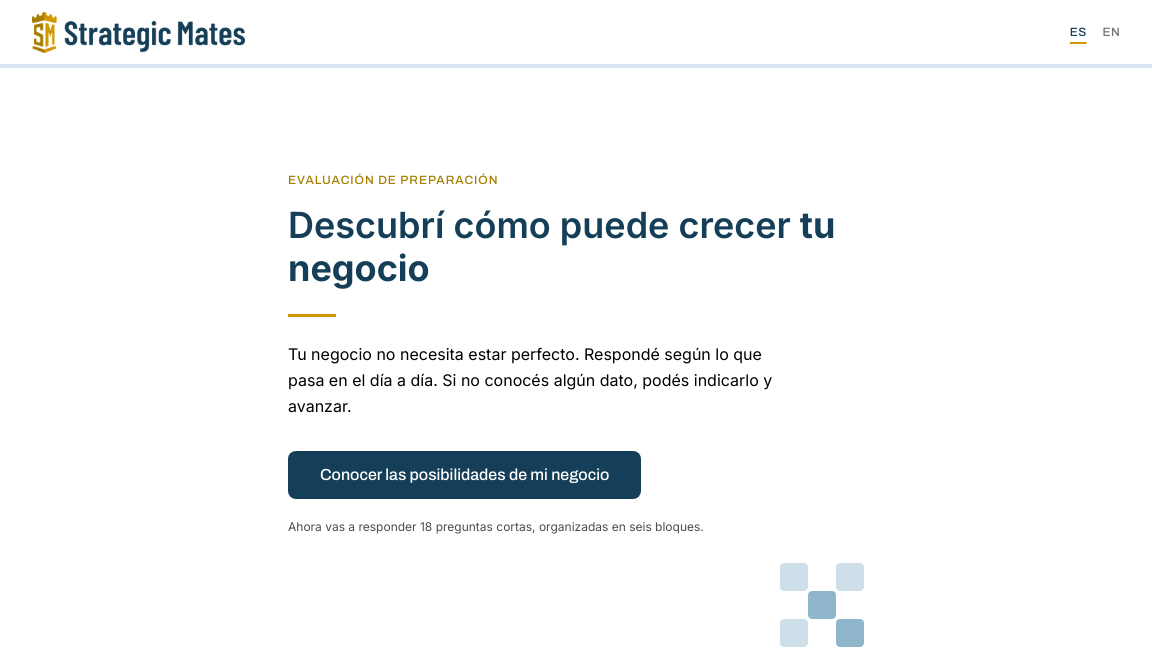
ReadinessPage intro and profile › asks for the state only when the typed city is not in the list
The image size is (1152, 655).
Click the button "Conocer las posibilidades de mi negocio" at (465, 475), box x1=288 y1=451 x2=641 y2=499
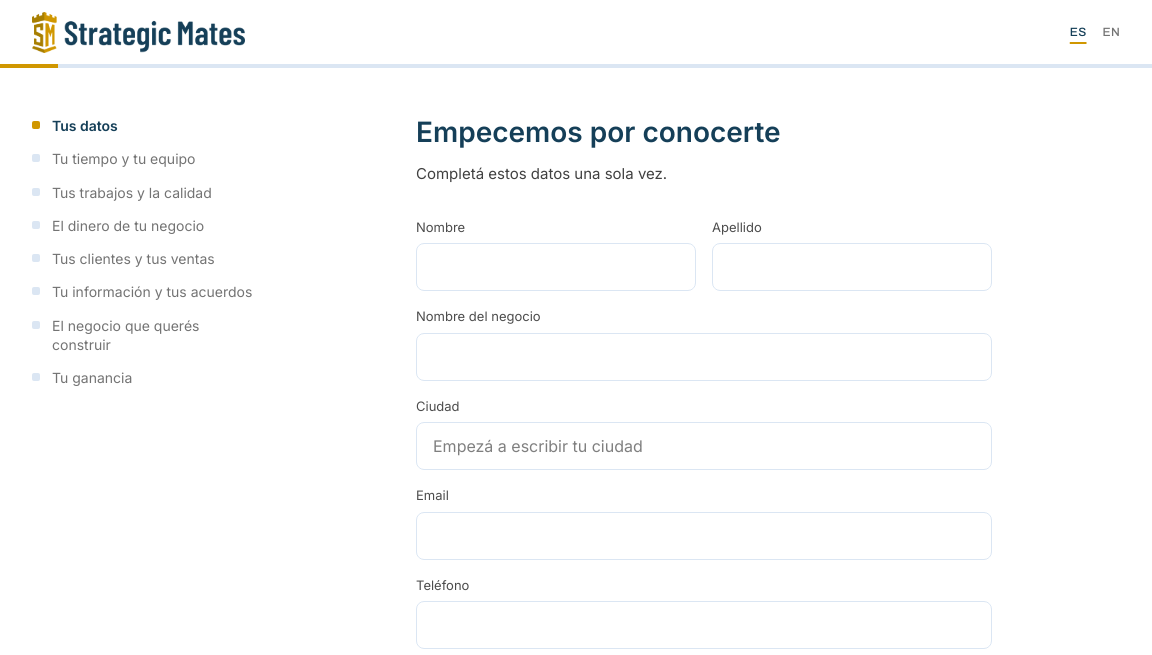
Type "Ana" into the field labelled "Nombre" at (556, 268), box x1=416 y1=244 x2=696 y2=292
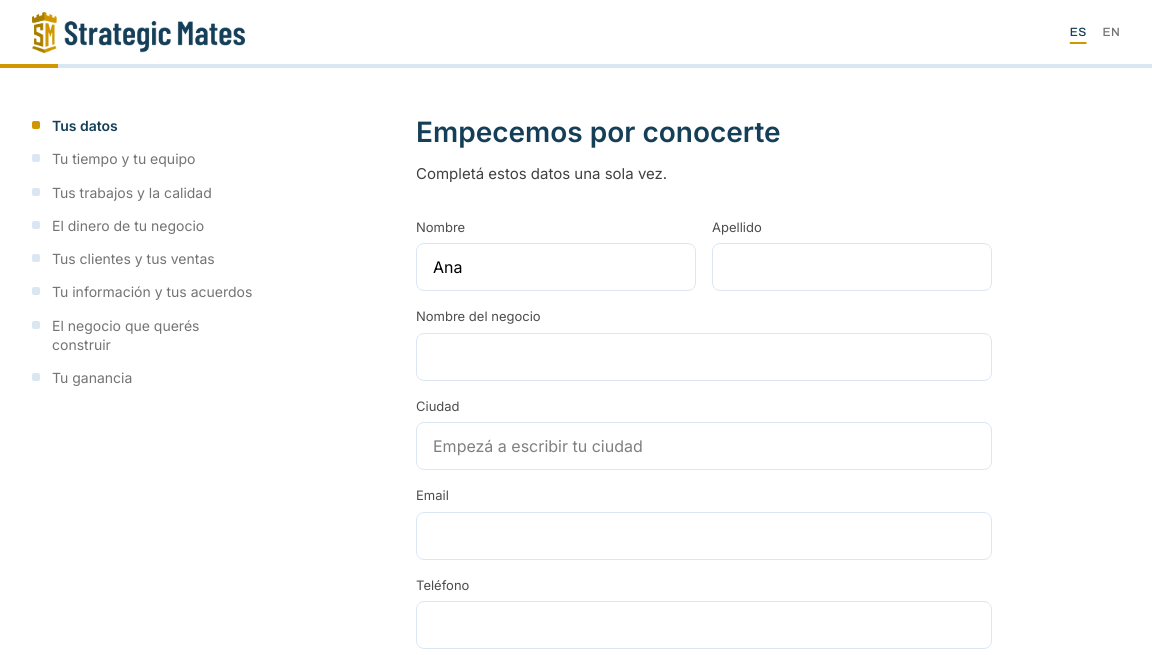
Type "Zzyzx" into the dropdown labelled "Ciudad" at (704, 446), box x1=416 y1=422 x2=992 y2=470
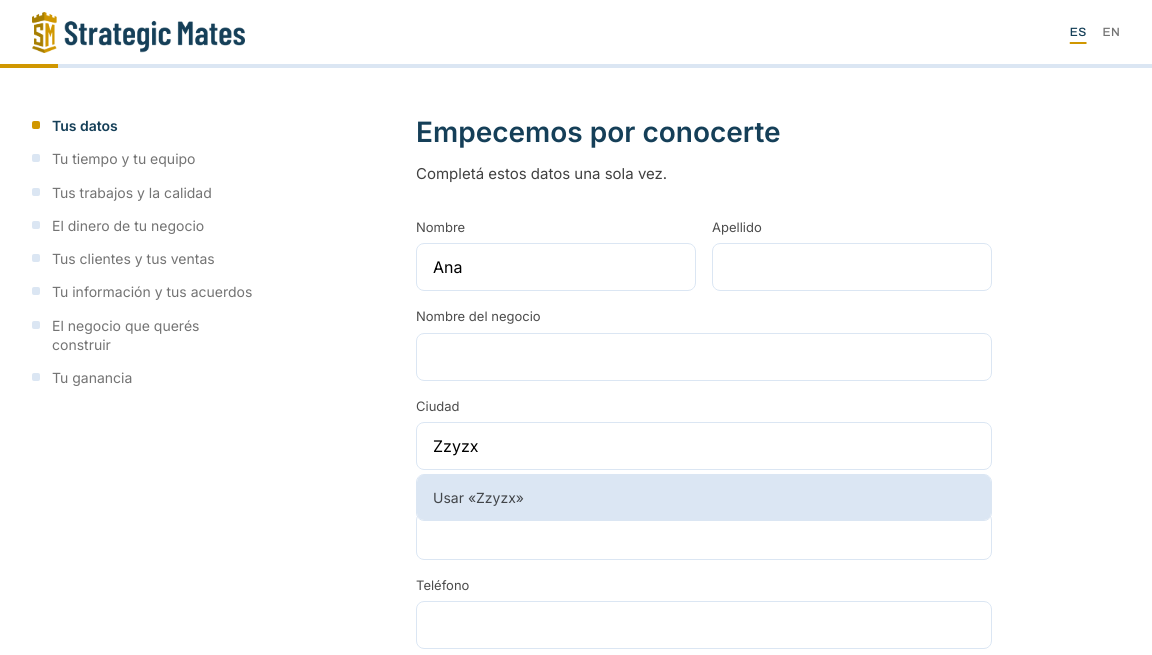
Click the option "Usar «Zzyzx»" at (448, 498), box x1=417 y1=476 x2=991 y2=520
(page scrolled)
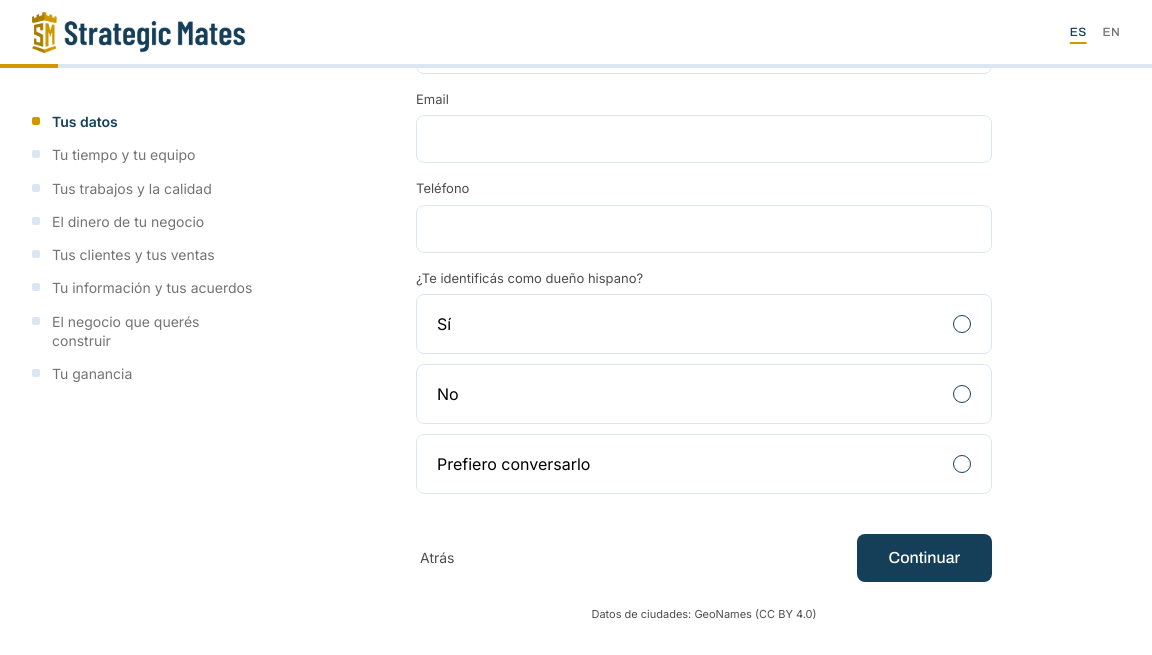
Check: the dropdown labelled "Estado" is shown, box x1=416 y1=26 x2=992 y2=74
Click the button "Continuar" at (924, 558), box x1=856 y1=534 x2=992 y2=582
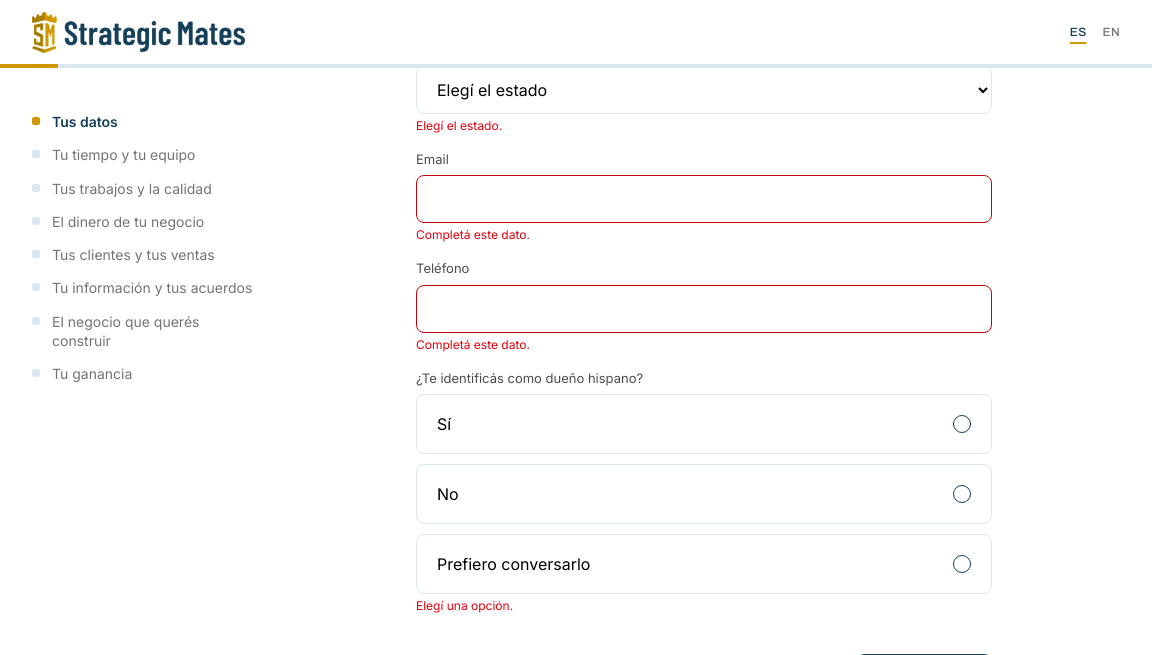
Check: the text "Elegí el estado." is shown, box x1=416 y1=118 x2=502 y2=133
